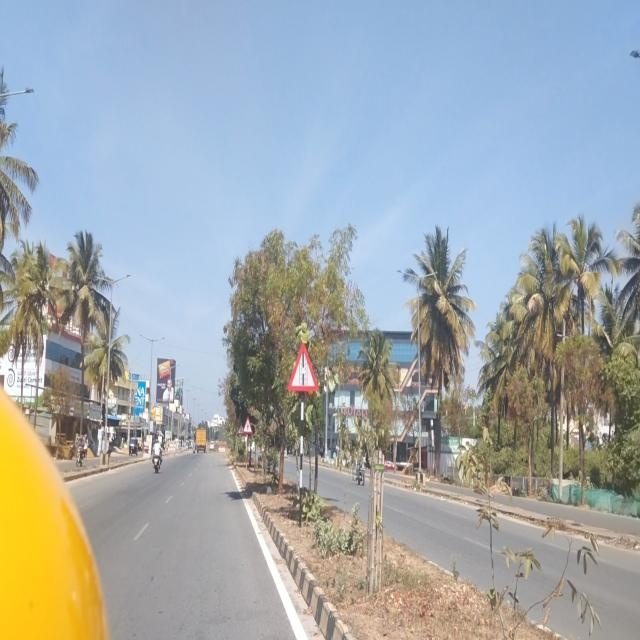bien_nguy_hiem: (287, 342, 319, 392), (242, 416, 252, 434), (237, 424, 243, 434)
